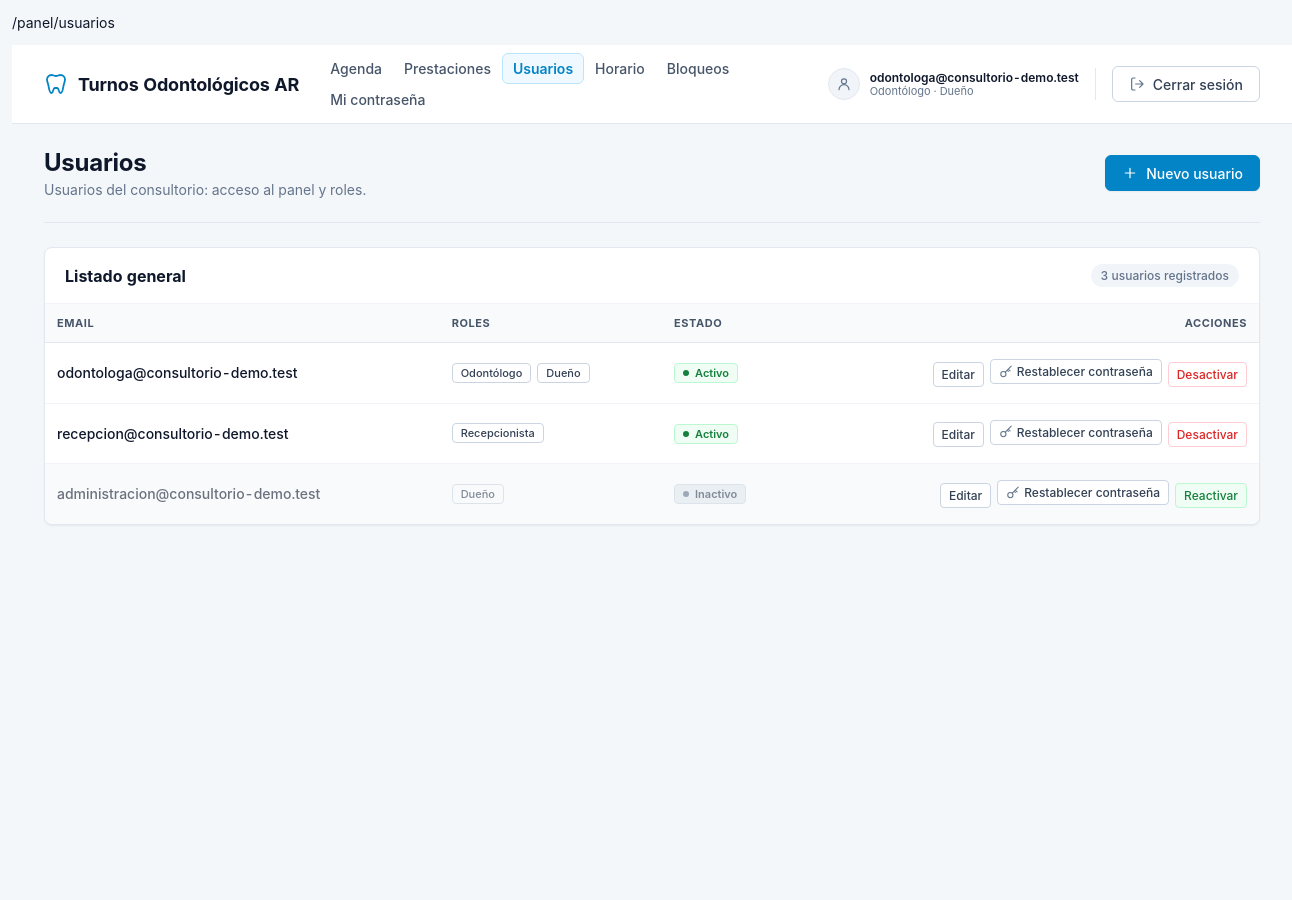
Restablecer contraseña desde la fila: bordes y errores › US-093 CA-6: la odontóloga no restablece la propia
Expected: the table is shown, [45,304,1259,524]
Click the 1st button "Restablecer contraseña" at (1076, 372), box [990,359,1162,384]
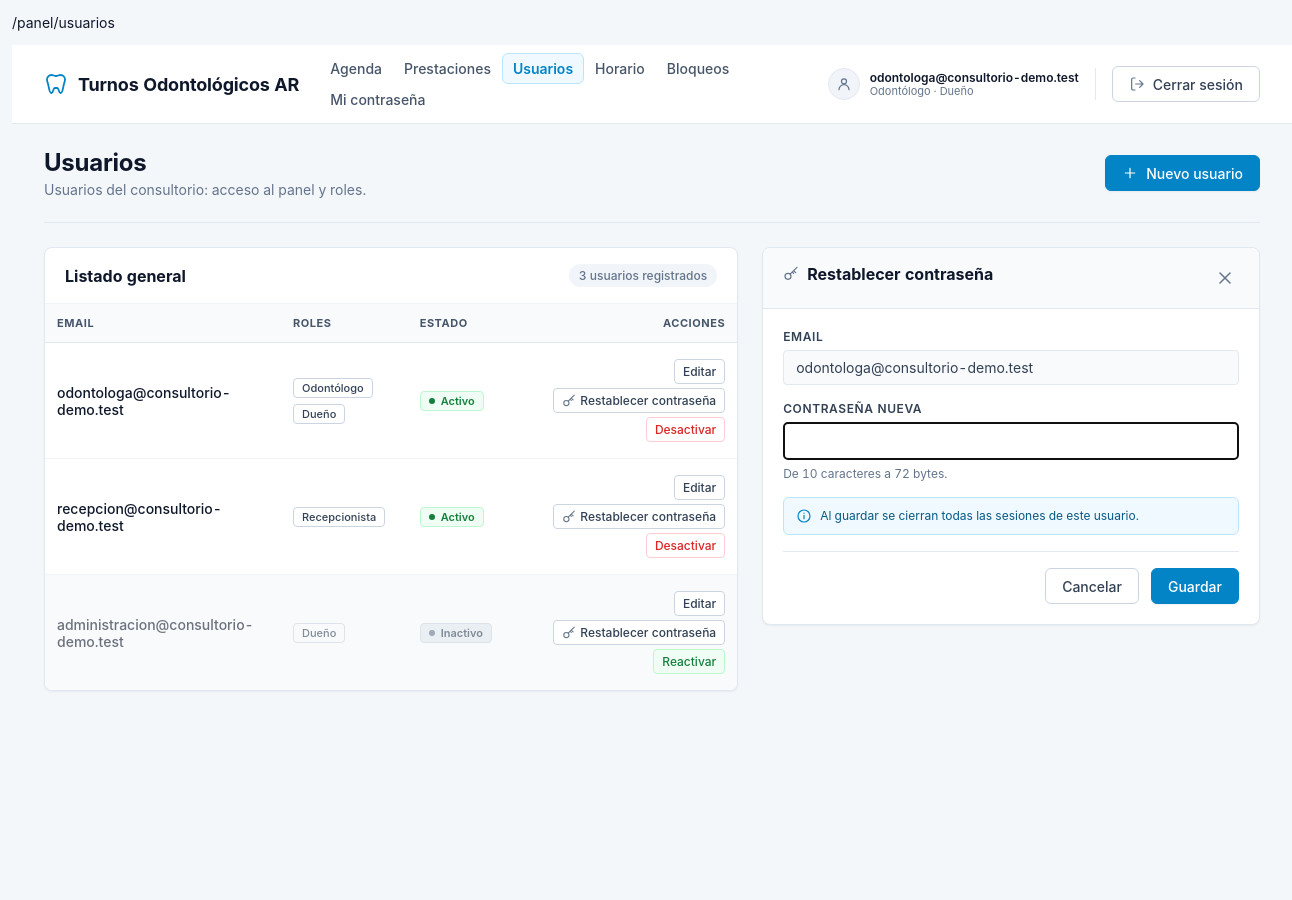
Type "clave-nueva-2026" into the password field labelled "Contraseña nueva" at (1011, 441), box [783,422,1239,460]
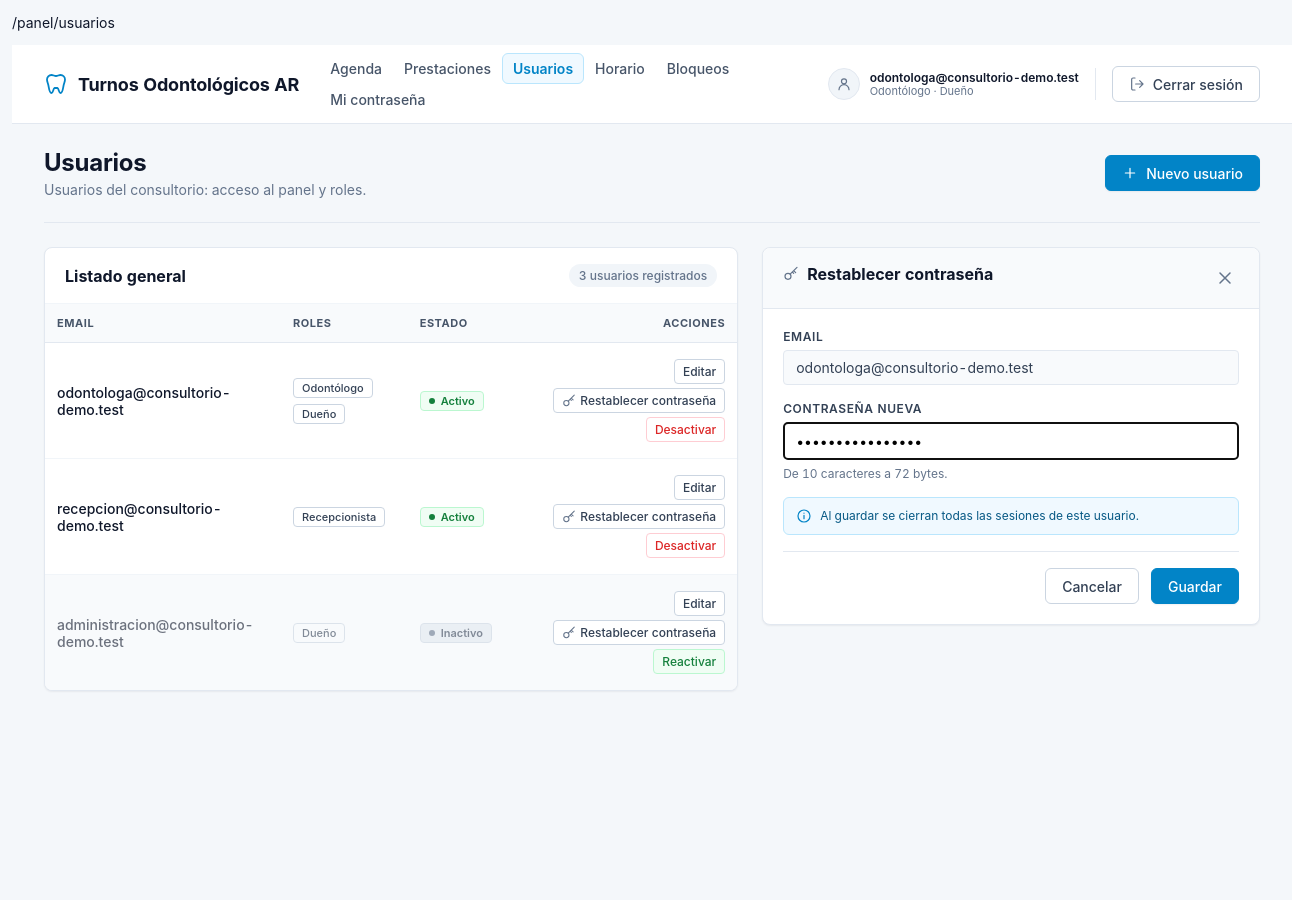
Click the button "Guardar" at (1195, 586), box [1151,568,1239,604]
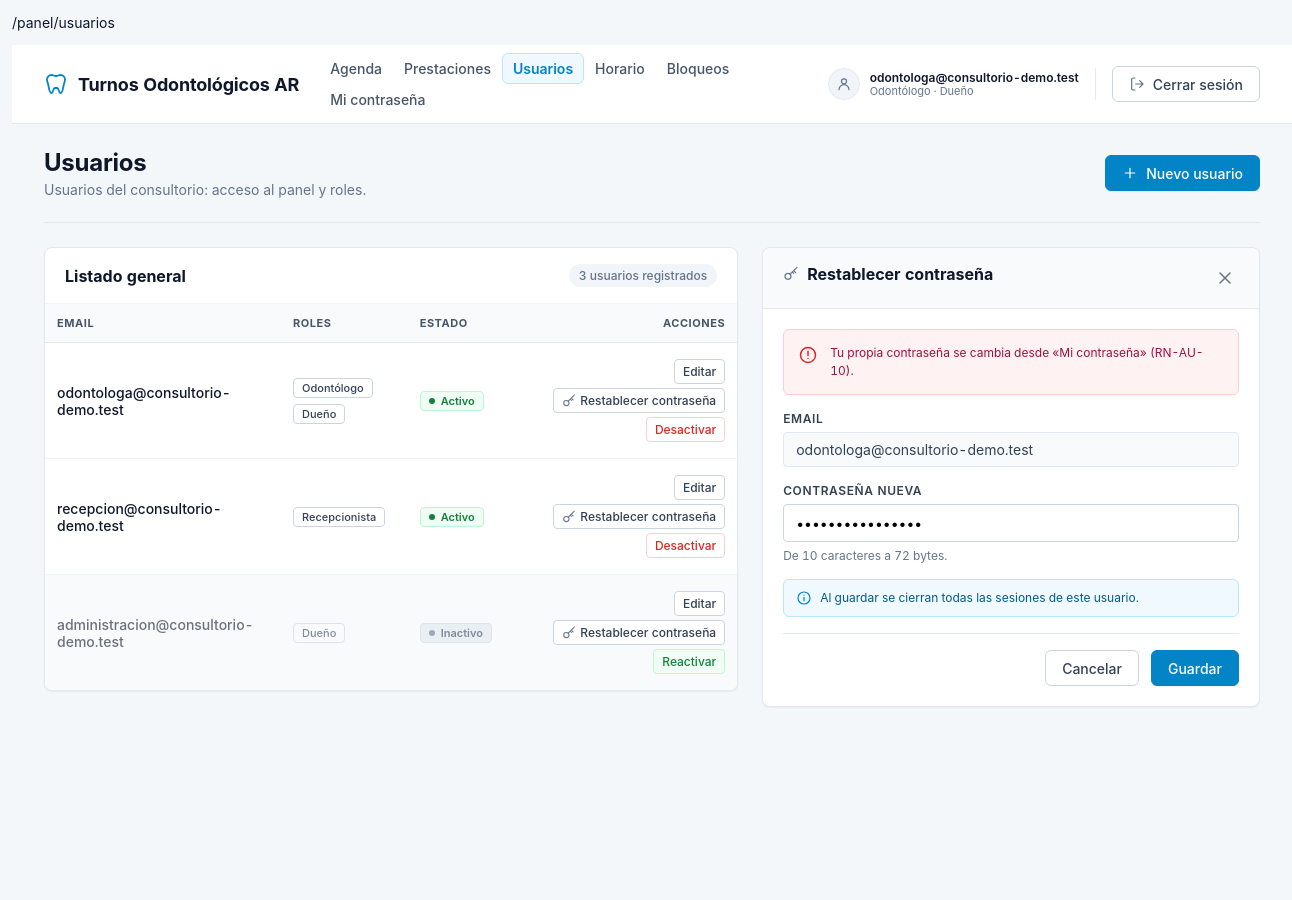
Expected: the text with test id "lugar" reads "/panel/usuarios", [12,14,115,31]
Now the message reads "Tu propia contraseña se cambia desde «Mi contraseña» (RN-AU-10).", box [830,345,1204,378]
